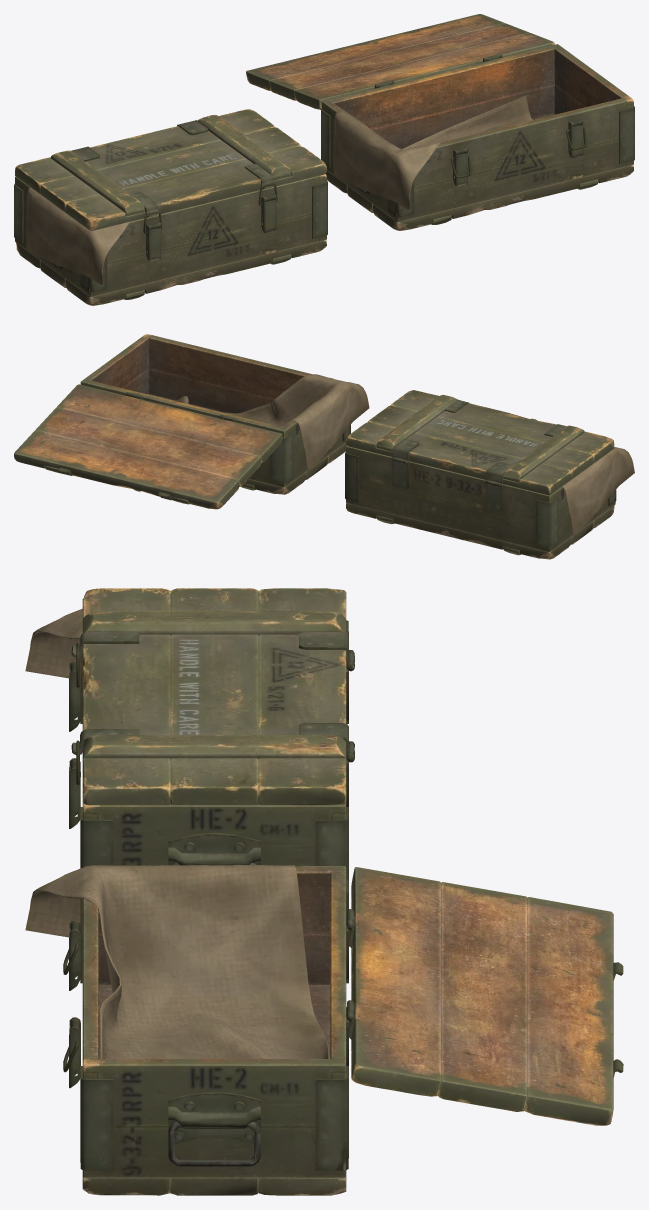
File: mil_crate_b.glb
3 views of the same model, one above another, from view 1: azimuth 30°, elevation 25°; view 2: azimuth 150°, elevation 25°; view 3: azimuth 270°, elevation 25° (orthographic). The views are drawn at different scales.
Visible parts, largest first — view 1: old_military_crate_lid_a; view 2: old_military_crate_lid_a; view 3: old_military_crate_lid_a.
Part boxes in pixels (bbox=[...]): old_military_crate_lid_a: bbox=[14, 14, 634, 305]; old_military_crate_lid_a: bbox=[14, 334, 634, 559]; old_military_crate_lid_a: bbox=[25, 588, 623, 1195].
Bounding box in the file's own units: 1.82 × 0.3009 × 0.9757.
1 material, 1 textured.
